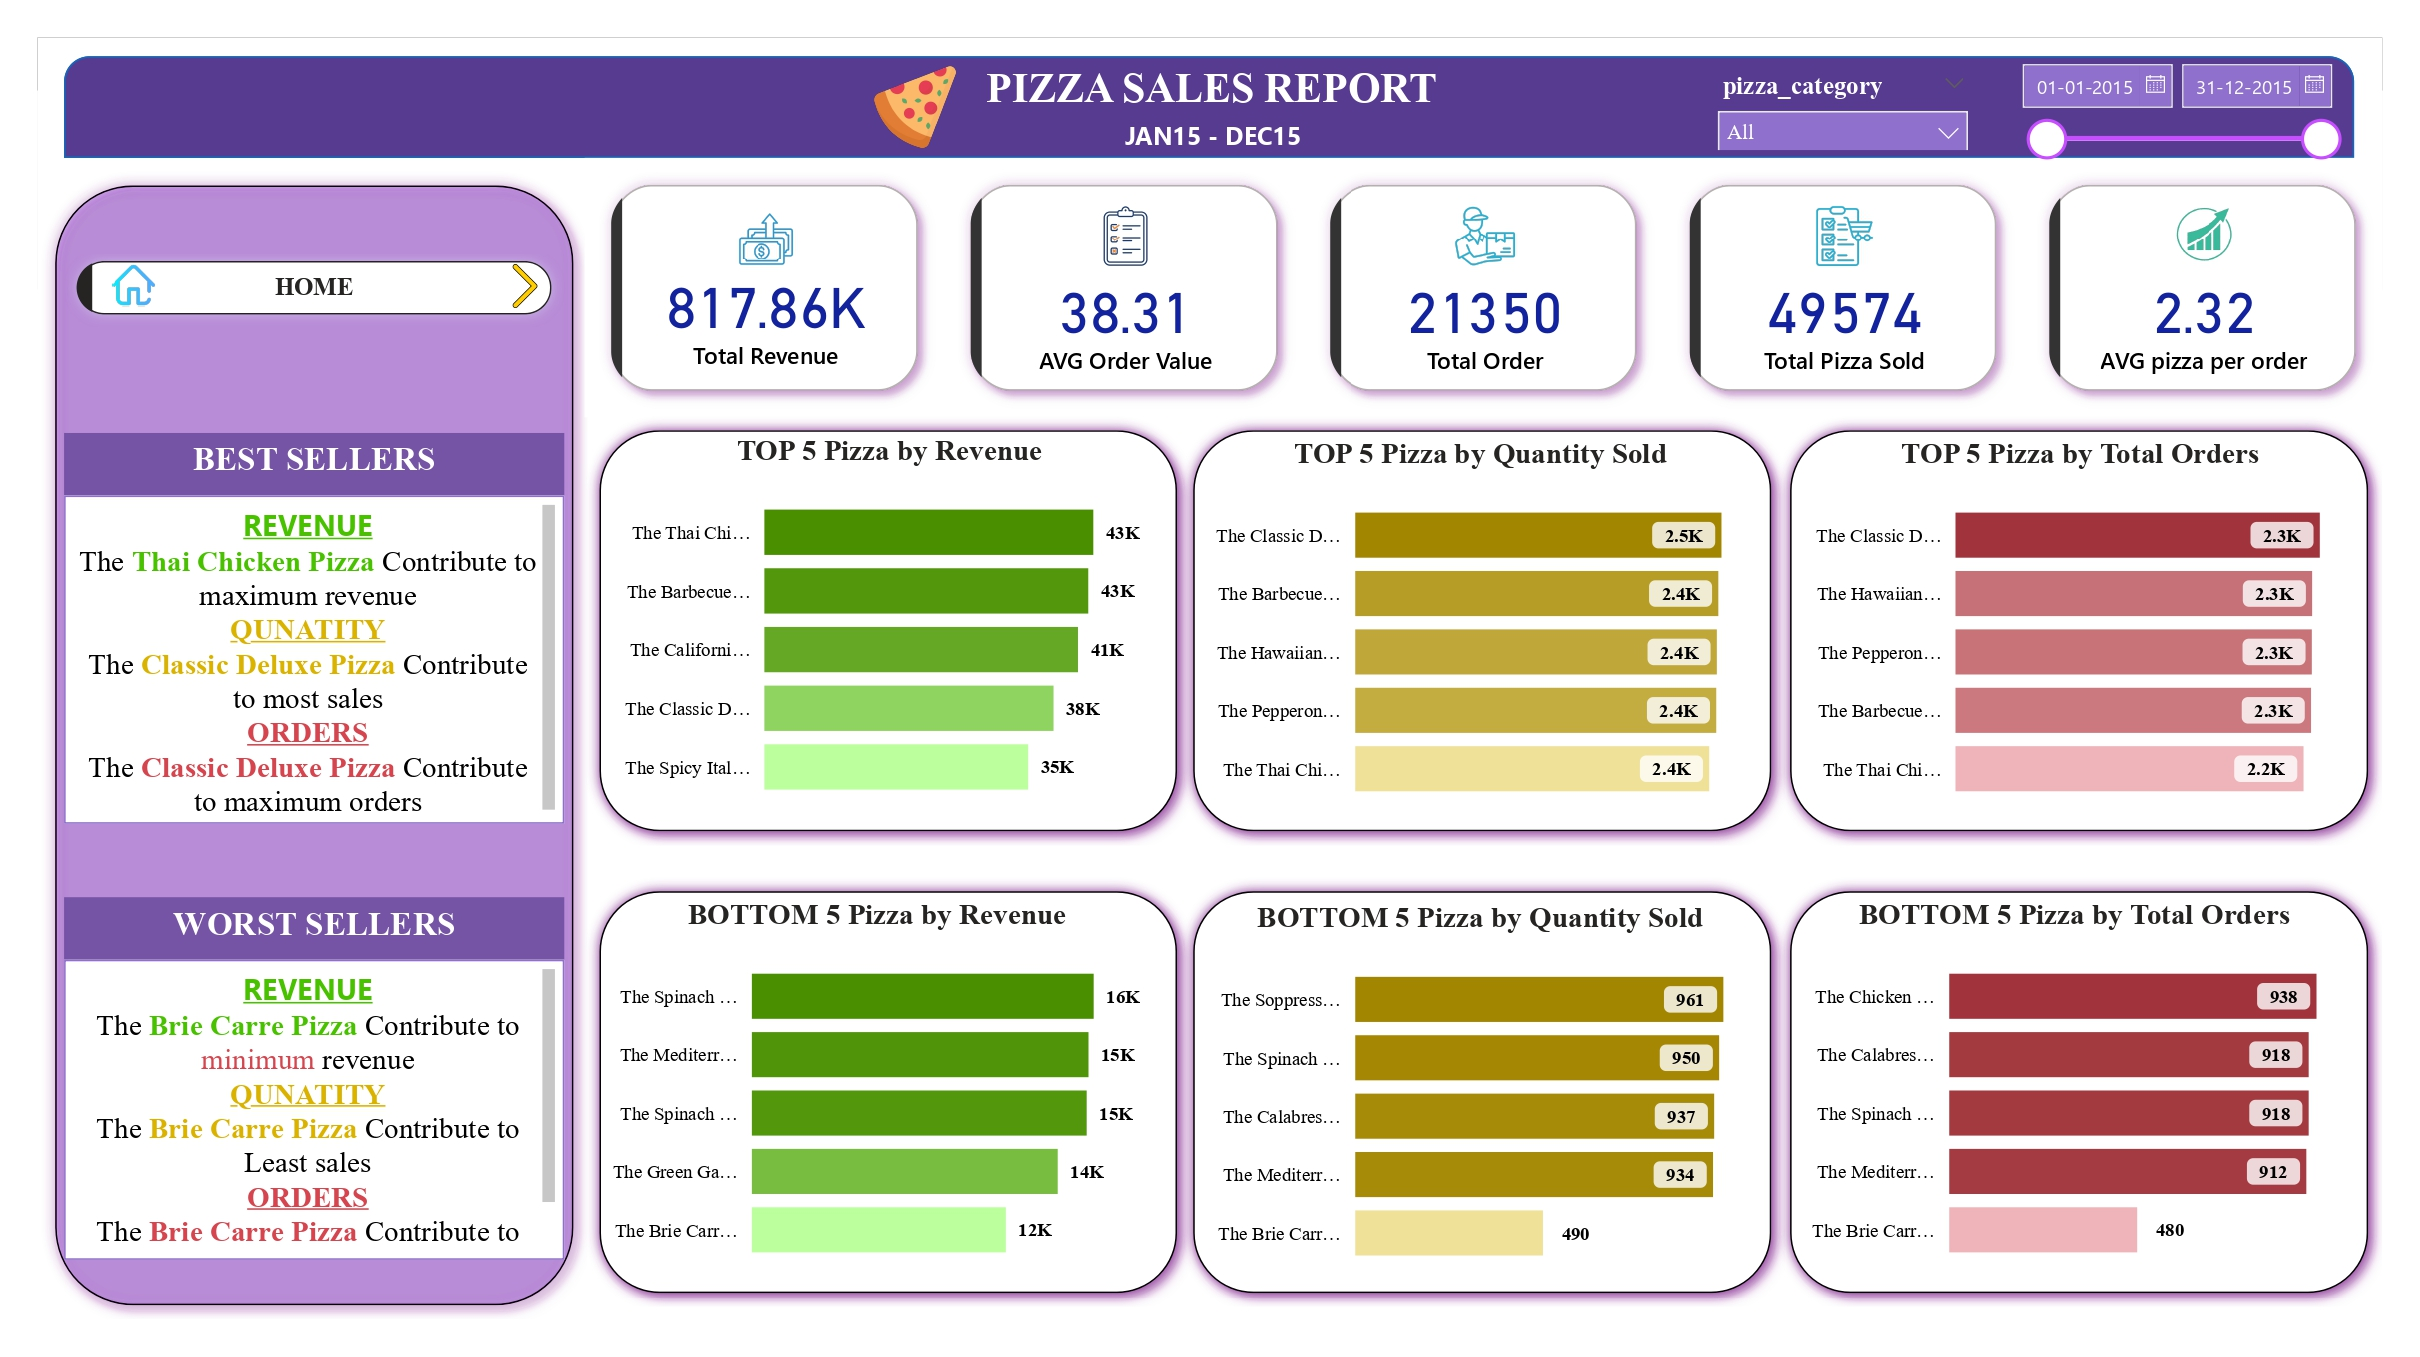

Layout of this report page (visuals, bound fields, positions):
{"tool":"powerbi","page":{"name":"BEST/WORST SELLERS","canvas":[1500,820],"ordinal":1},"visuals":[{"type":"cardVisual","fields":{"Data":["pizza_sales.Total Revenue"]},"box":[350,76.7,230,165.7],"z":0,"group":"g1"},{"type":"shape","box":[16.7,11.7,1465,65],"z":0},{"type":"cardVisual","fields":{"Data":["pizza_sales.AVG Order Value"]},"box":[580,76.7,230,165.7],"z":1000,"group":"g1"},{"type":"textbox","box":[585,11.7,331.7,43.3],"z":1000},{"type":"textbox","box":[676.7,46.7,150,38.3],"z":2000},{"type":"cardVisual","fields":{"Data":["pizza_sales.Total Order"]},"box":[810,76.7,230,165.7],"z":3000,"group":"g1"},{"type":"image","box":[516.7,11.7,88.3,65],"z":3000},{"type":"shape","box":[1.7,85,350,735],"z":4000},{"type":"group","id":"g1","title":"Group 1","box":[350,76.7,1150,165.7],"z":5000},{"type":"shape","box":[350,241.7,388.3,275],"z":6000},{"type":"cardVisual","fields":{"Data":["pizza_sales.Total Pizza Sold"]},"box":[1040,76.7,230,165.7],"z":7000,"group":"g1"},{"type":"cardVisual","fields":{"Data":["pizza_sales.AVG pizza per order"]},"box":[1270,76.7,230,165.7],"z":8000,"group":"g1"},{"type":"textbox","box":[16.7,253.3,320,40],"z":16000},{"type":"textbox","box":[16.7,293.3,320,210],"z":17000},{"type":"textbox","box":[16.7,550,320,40],"z":18000},{"type":"textbox","box":[16.7,590,320,191.7],"z":19000},{"type":"slicer","fields":{"Values":["pizza_sales.pizza_category"]},"box":[1065,16.7,180,55],"z":20000},{"type":"slicer","fields":{"Values":["pizza_sales.order_date"]},"box":[1256.7,6.7,225,78.3],"z":21000},{"type":"shape","box":[730,241.7,388.3,275],"z":21001},{"type":"shape","box":[1111.7,241.7,388.3,275],"z":21002},{"type":"shape","box":[350,536.7,388.3,275],"z":21003},{"type":"shape","box":[730,536.7,388.3,275],"z":21004},{"type":"shape","box":[1111.7,536.7,388.3,275],"z":21005},{"type":"barChart","title":"TOP 5 Pizza by Revenue","fields":{"Category":["pizza_sales.pizza_name"],"Y":["pizza_sales.Total Revenue"]},"box":[360,253.3,370,248.3],"z":21006},{"type":"barChart","title":"BOTTOM 5 Pizza by Revenue","fields":{"Category":["pizza_sales.pizza_name"],"Y":["pizza_sales.Total Revenue"]},"box":[351.7,550,370,248.3],"z":21007},{"type":"barChart","title":"TOP 5 Pizza by Quantity Sold","fields":{"Category":["pizza_sales.pizza_name"],"Y":["pizza_sales.Total Pizza Sold"]},"box":[738.3,255,370,248.3],"z":21008},{"type":"barChart","title":"BOTTOM 5 Pizza by Quantity Sold","fields":{"Category":["pizza_sales.pizza_name"],"Y":["pizza_sales.Total Pizza Sold"]},"box":[738.3,551.7,370,248.3],"z":21009},{"type":"barChart","title":"TOP 5 Pizza by Total Orders","fields":{"Category":["pizza_sales.pizza_name"],"Y":["pizza_sales.Total Order"]},"box":[1121.7,255,370,248.3],"z":21010},{"type":"barChart","title":"BOTTOM 5 Pizza by Total Orders","fields":{"Category":["pizza_sales.pizza_name"],"Y":["pizza_sales.Total Order"]},"box":[1118.3,550,370,248.3],"z":21011},{"type":"pageNavigator","box":[16.7,135,320,50],"z":21012},{"type":"image","box":[286.7,140,50,38.3],"z":21013},{"type":"image","box":[30,140,63.3,36.7],"z":21014}]}

Visuals, with their boxes in screenshot pixels (x1, y1, x2, y2):
cardVisual - pizza_sales.Total Revenue: Rect(585, 157, 944, 416)
shape: Rect(64, 56, 2354, 157)
cardVisual - pizza_sales.AVG Order Value: Rect(944, 157, 1304, 416)
textbox: Rect(952, 56, 1471, 124)
textbox: Rect(1095, 111, 1330, 170)
cardVisual - pizza_sales.Total Order: Rect(1304, 157, 1663, 416)
image: Rect(845, 56, 983, 157)
shape: Rect(40, 170, 587, 1319)
"Group 1" group: Rect(585, 157, 2382, 416)
shape: Rect(585, 415, 1192, 845)
cardVisual - pizza_sales.Total Pizza Sold: Rect(1663, 157, 2023, 416)
cardVisual - pizza_sales.AVG pizza per order: Rect(2023, 157, 2382, 416)
textbox: Rect(64, 434, 564, 496)
textbox: Rect(64, 496, 564, 824)
textbox: Rect(64, 897, 564, 960)
textbox: Rect(64, 960, 564, 1260)
slicer - pizza_sales.pizza_category: Rect(1702, 64, 1984, 150)
slicer - pizza_sales.order_date: Rect(2002, 48, 2354, 170)
shape: Rect(1179, 415, 1786, 845)
shape: Rect(1775, 415, 2382, 845)
shape: Rect(585, 877, 1192, 1307)
shape: Rect(1179, 877, 1786, 1307)
shape: Rect(1775, 877, 2382, 1307)
"TOP 5 Pizza by Revenue" barChart: Rect(600, 434, 1179, 822)
"BOTTOM 5 Pizza by Revenue" barChart: Rect(587, 897, 1166, 1286)
"TOP 5 Pizza by Quantity Sold" barChart: Rect(1192, 436, 1770, 824)
"BOTTOM 5 Pizza by Quantity Sold" barChart: Rect(1192, 900, 1770, 1288)
"TOP 5 Pizza by Total Orders" barChart: Rect(1791, 436, 2370, 824)
"BOTTOM 5 Pizza by Total Orders" barChart: Rect(1786, 897, 2364, 1286)
pageNavigator: Rect(64, 249, 564, 327)
image: Rect(486, 256, 564, 316)
image: Rect(84, 256, 183, 314)
